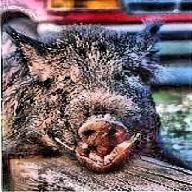boar: (2, 16, 190, 174)
